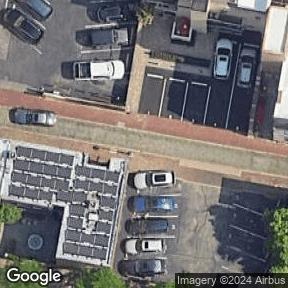vegetation: (266, 207, 288, 272), (73, 267, 128, 288), (3, 255, 43, 275), (0, 270, 40, 288), (0, 204, 23, 225), (148, 281, 174, 288)
